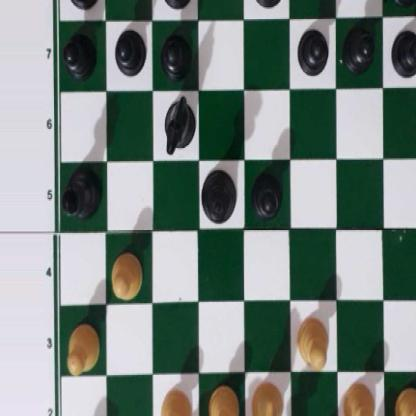black-bishop: (59, 167, 103, 220), (157, 0, 197, 10)
black-king: (249, 0, 289, 10)
black-knight: (162, 94, 194, 151)
black-pawn: (296, 25, 328, 75), (160, 26, 190, 78), (63, 29, 96, 76), (252, 170, 283, 220), (344, 22, 374, 72), (114, 26, 144, 76), (391, 25, 416, 78)
black-queen: (200, 167, 236, 223)
black-rook: (55, 0, 100, 9), (389, 0, 416, 4)
white-knight: (250, 379, 286, 416)
white-pawn: (108, 246, 144, 300), (64, 322, 99, 375), (295, 313, 328, 369), (342, 378, 378, 416), (207, 382, 238, 416), (159, 385, 192, 416), (394, 384, 416, 416)
